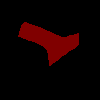reggiseno: (17, 21, 79, 66)
